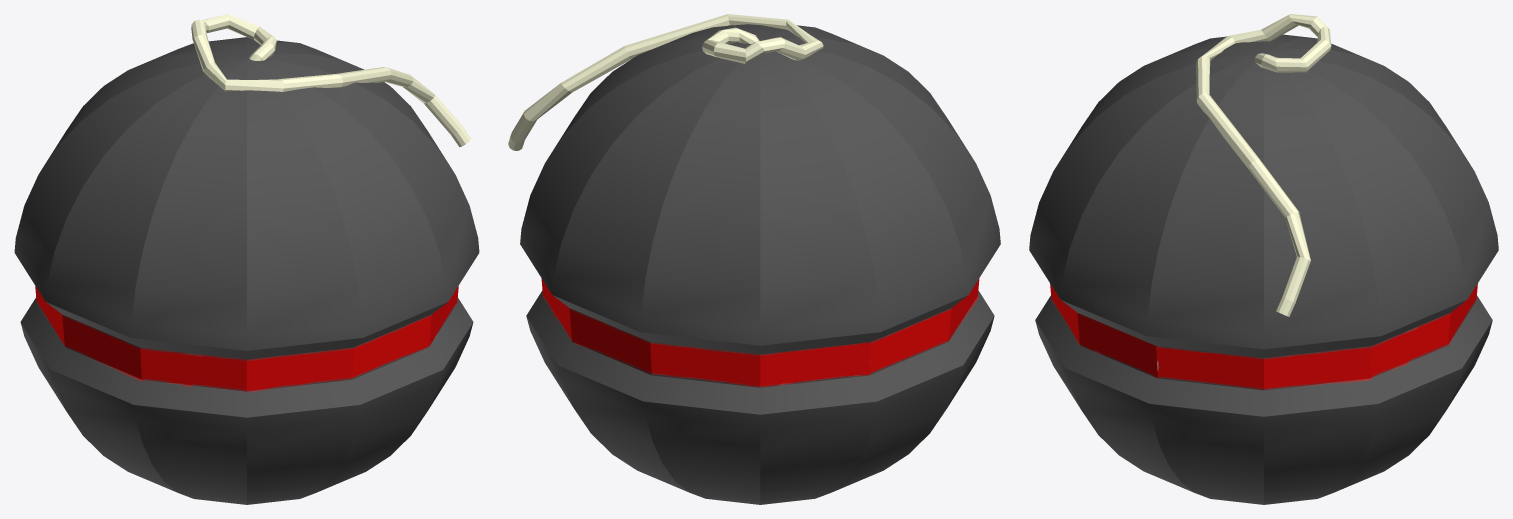
The model's file is PickUp_004_Bomb.fbx.
3 renders of one model, left to right at view 1: azimuth 30°, elevation 25°; view 2: azimuth 150°, elevation 25°; view 3: azimuth 270°, elevation 25°, orthographic. The views are drawn at different scales.
Visible parts, largest first — view 1: PickUp_004_Bomb; view 2: PickUp_004_Bomb; view 3: PickUp_004_Bomb.
Boxes of the visible parts, x1,y1,x2,y2 form: PickUp_004_Bomb: (14,14,479,504); PickUp_004_Bomb: (508,14,1000,504); PickUp_004_Bomb: (1029,14,1498,504).
Size of the model in its own units: 156 by 155 by 145.
